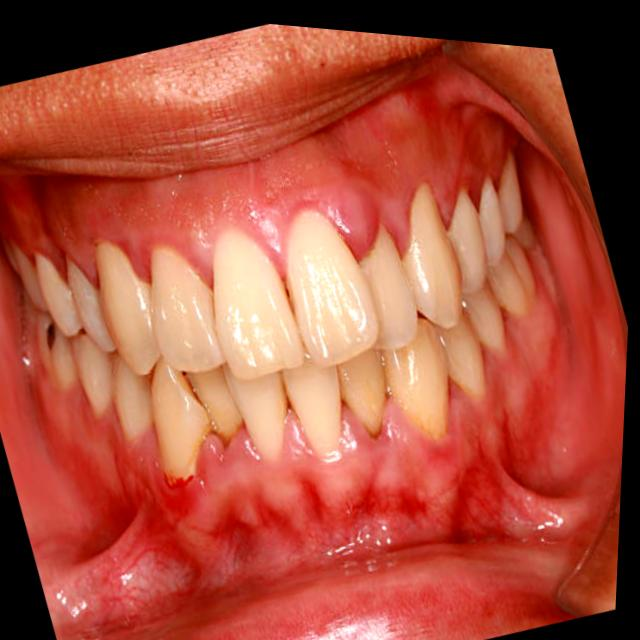gingivitis: (87, 343, 538, 565), (2, 103, 491, 285)
